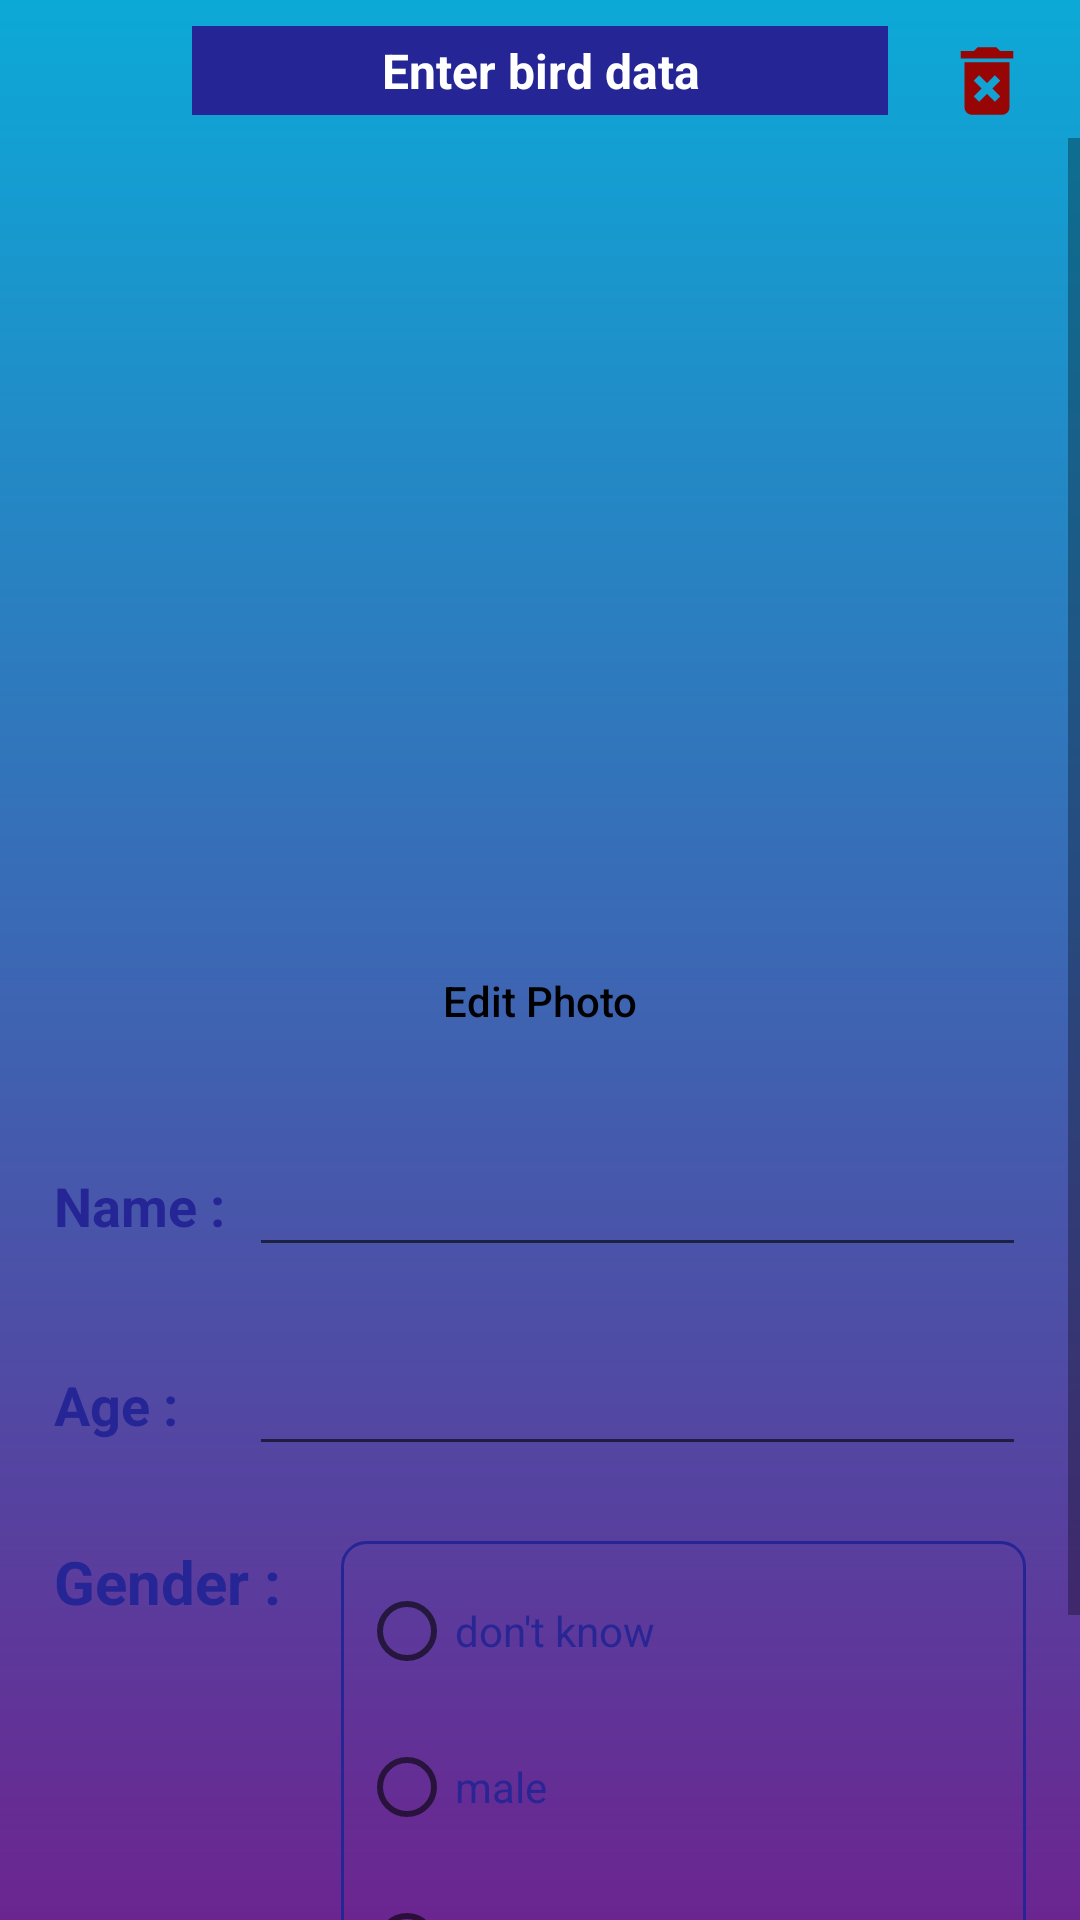

Icon bounding boxes for this 1080w x 1920h phone screenshot, format box=[x1, y1, x2, y2]:
delete forever: box=[960, 47, 1014, 115]
